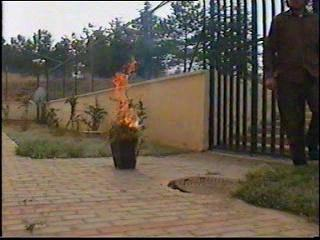fire: (116, 52, 139, 133)
